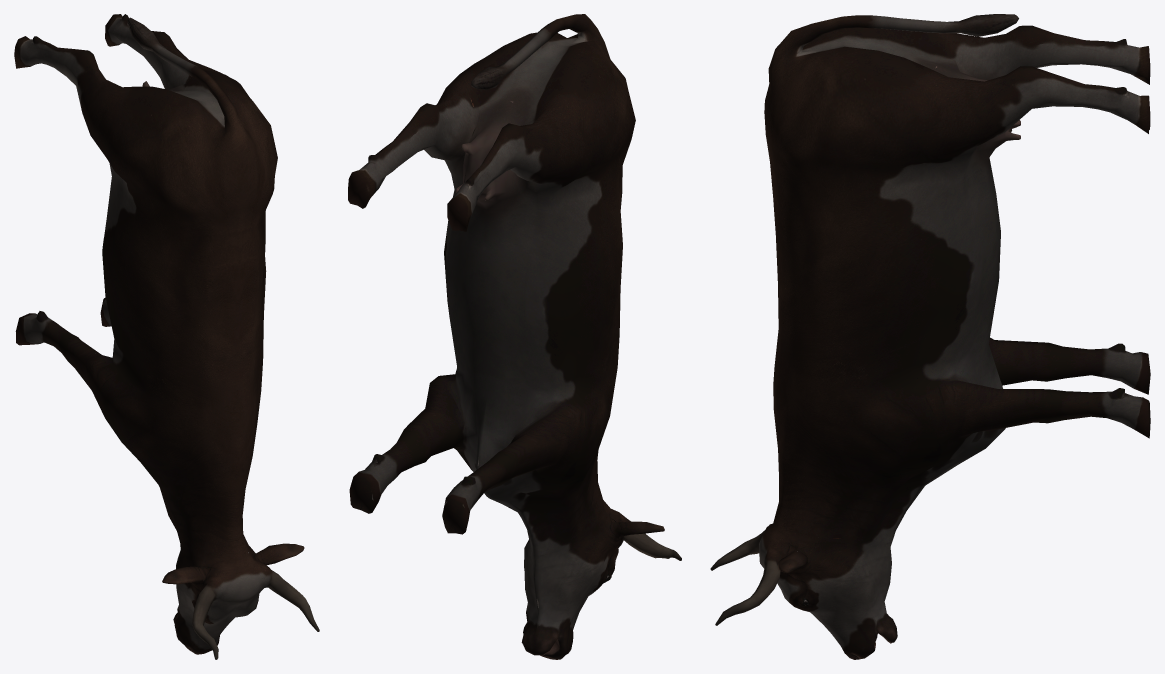
File: cow.gltf
3 views of the same model, side by side, from view 1: azimuth 30°, elevation 25°; view 2: azimuth 150°, elevation 25°; view 3: azimuth 270°, elevation 25° (orthographic). The views are drawn at different scales.
Visible parts, largest first — view 1: Cow_Mesh; view 2: Cow_Mesh; view 3: Cow_Mesh.
Boxes of the visible parts, x1,y1,x2,y2 form: Cow_Mesh: (14,14,319,659); Cow_Mesh: (348,14,681,659); Cow_Mesh: (710,14,1150,659).
Size of the model in its own units: 0.00185 by 0.00728 by 0.00451.
1 material, 1 textured.
